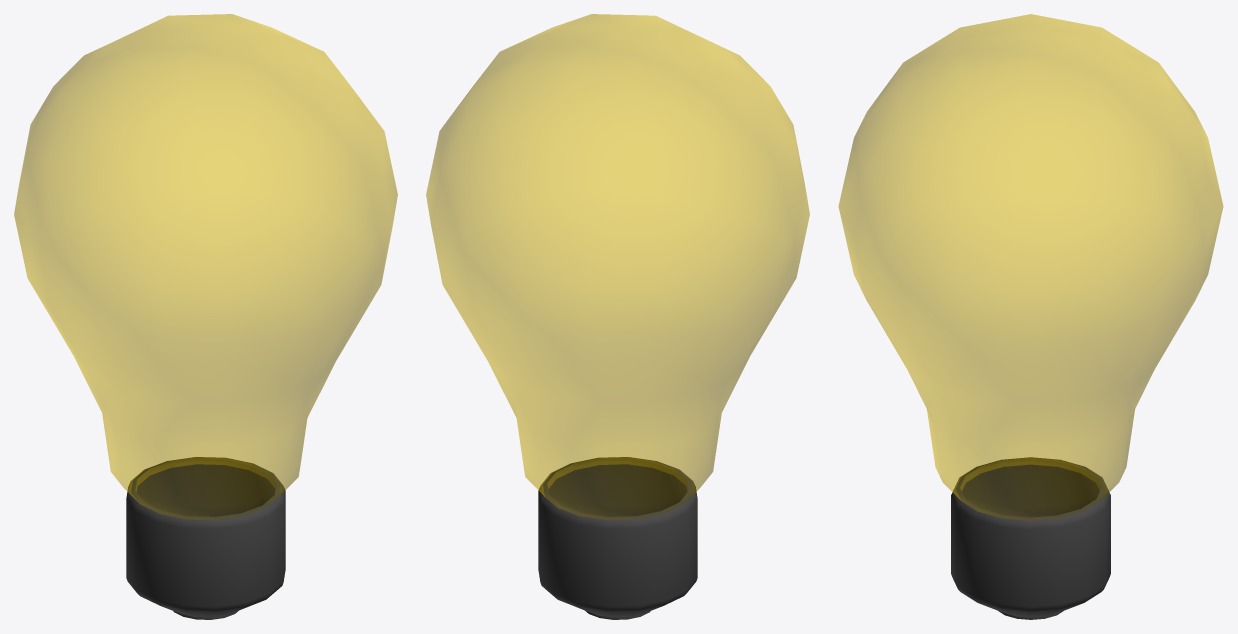
Rendered from lightBulb.glb.
3 renders of one model, left to right at view 1: azimuth 30°, elevation 25°; view 2: azimuth 150°, elevation 25°; view 3: azimuth 270°, elevation 25°, orthographic.
Parts seen in each view (by area): view 1: #LMP0003_Light_Bulb_Low_Poly_#LMP0003_Textures_0; view 2: #LMP0003_Light_Bulb_Low_Poly_#LMP0003_Textures_0; view 3: #LMP0003_Light_Bulb_Low_Poly_#LMP0003_Textures_0.
Part boxes in pixels (left/top/right/bottom): #LMP0003_Light_Bulb_Low_Poly_#LMP0003_Textures_0: left=14, top=14, right=397, bottom=619; #LMP0003_Light_Bulb_Low_Poly_#LMP0003_Textures_0: left=426, top=14, right=809, bottom=619; #LMP0003_Light_Bulb_Low_Poly_#LMP0003_Textures_0: left=838, top=14, right=1223, bottom=619.
Size of the model in its own units: 7.38 by 12.32 by 7.38.
